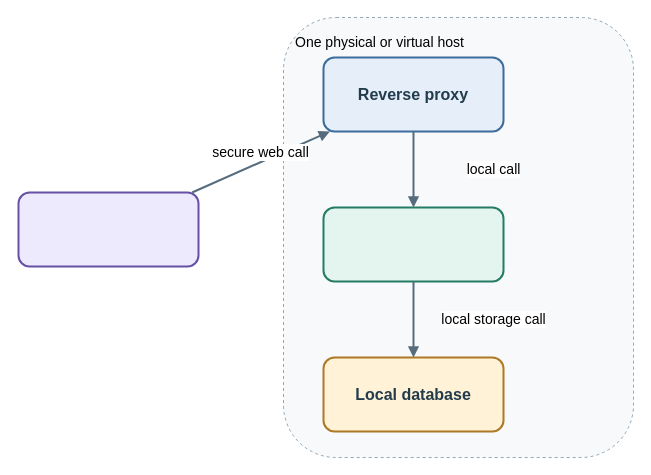
The diagram is 651 pixels wide and 475 high, and some of its shapes have lost their labels. Here are the shapes that lost their labels. From the top down, the centre of each, then its label:
At (x=108, y=229): "Browser".
At (x=413, y=244): "Application process".
